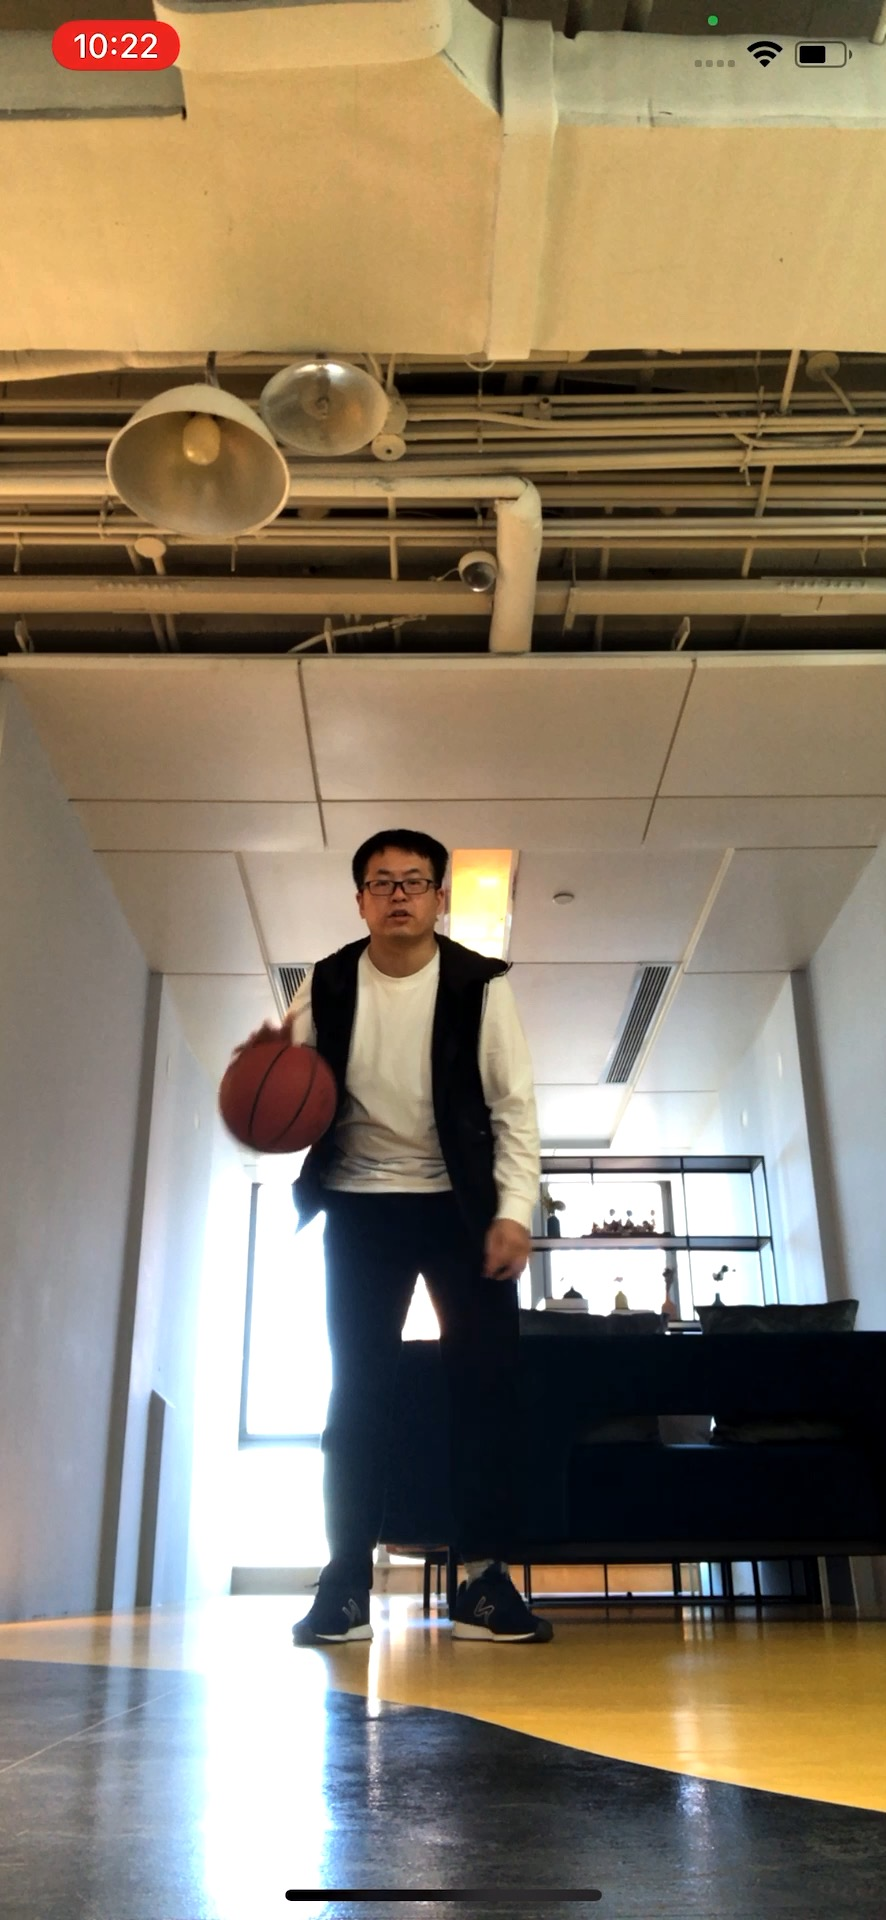ball: (214, 1035, 341, 1153)
